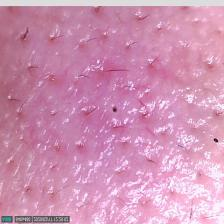Oily: (0, 9, 224, 214)
